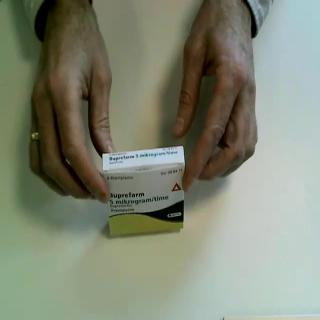buprefarm5ug_hour: (101, 145, 187, 238)
